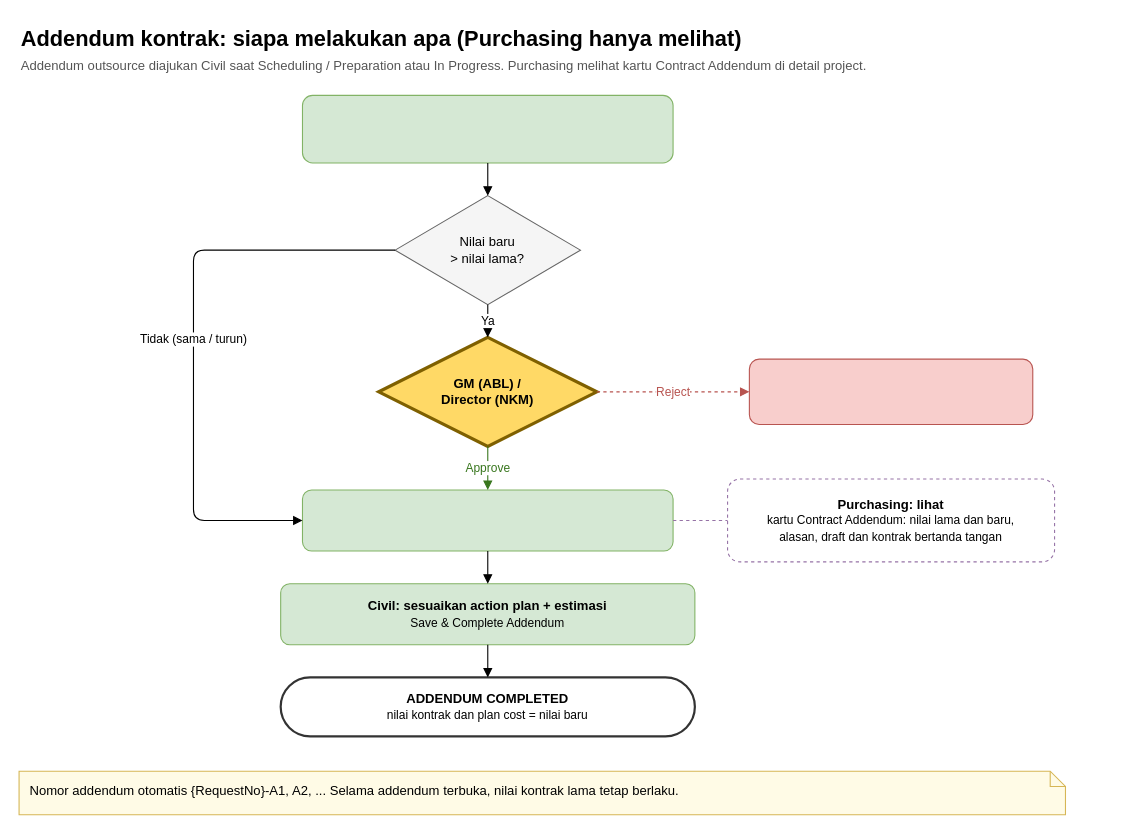
Image size: 1128x834. Some labels were removed from this diagram. Here are the shapes that lost their labels. From the top down, the centre of each, then its label:
pixel 487 128: Civil: New Addendum nilai kontrak baru, alasan, draft kontrak addendum
pixel 890 391: Reject addendum batal; nilai kontrak lama berlaku
pixel 487 520: Civil: Upload Signed Contract kontrak addendum bertanda tangan
